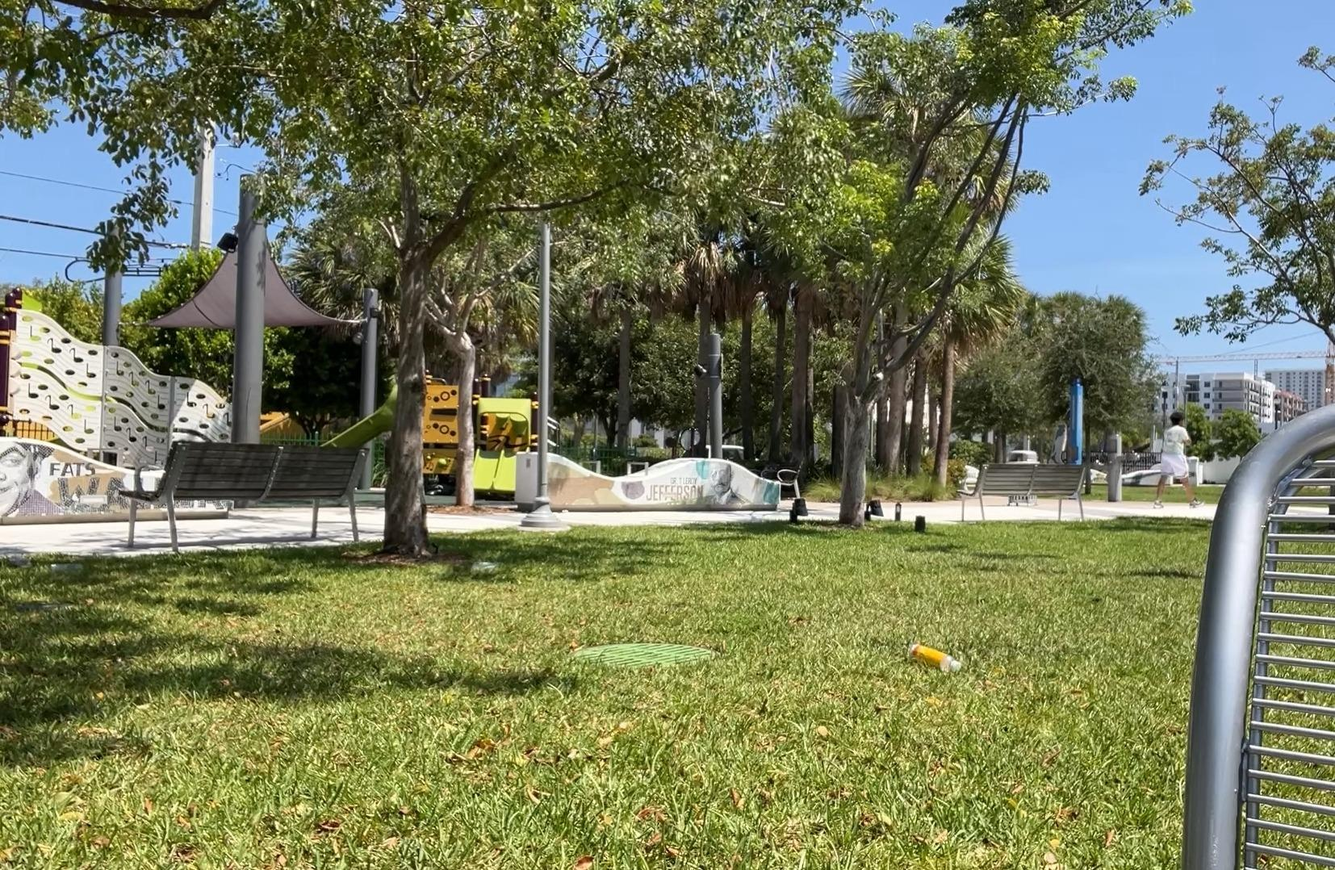Trash: (886, 628, 983, 690)
